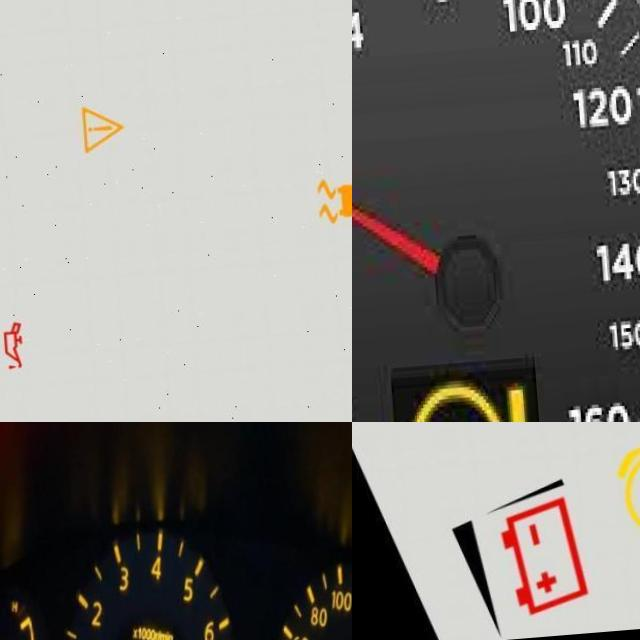Electronic Power Steering: (389, 380, 533, 422)
